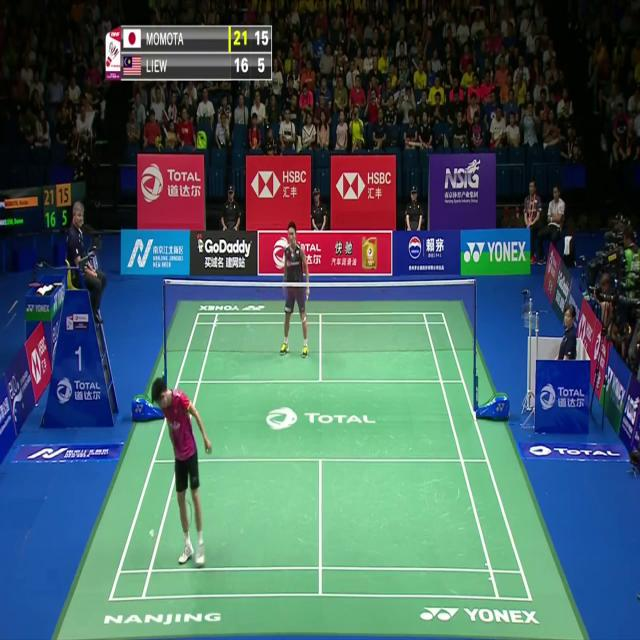Shuttlecock: (149, 527, 155, 538)
